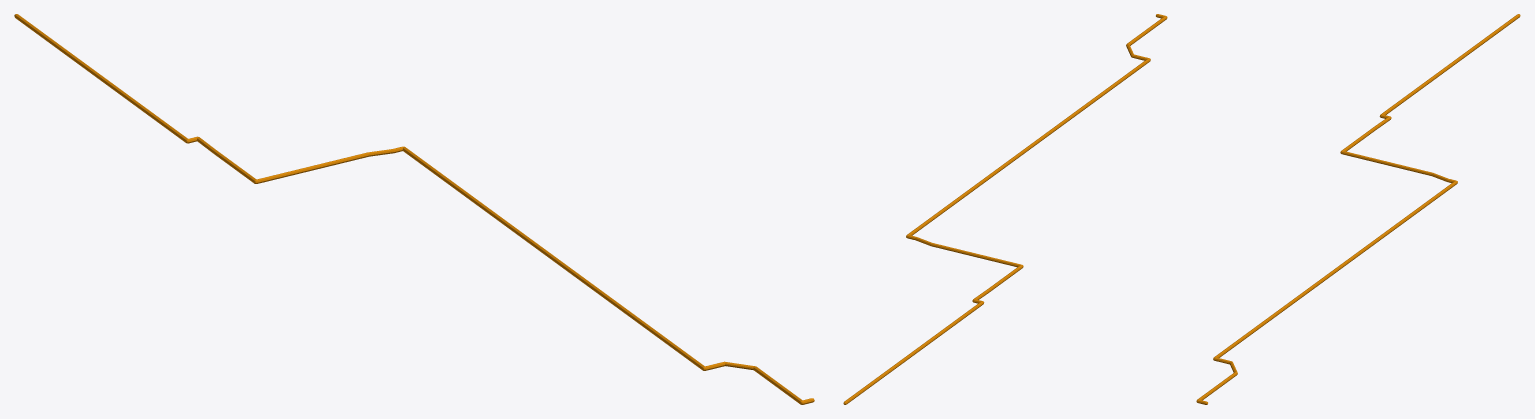
The picture shows the model from 3 angles, left to right: view 1: azimuth 30°, elevation 25°; view 2: azimuth 150°, elevation 25°; view 3: azimuth 330°, elevation 25°; orthographic projection. The views are drawn at different scales.
Size of the model in its own units: 1014 by 20 by 5042.
